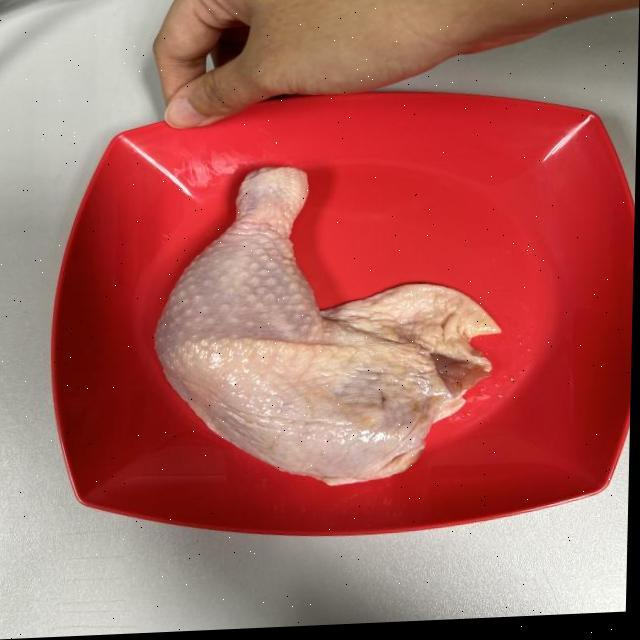quater: (160, 152, 504, 492)
